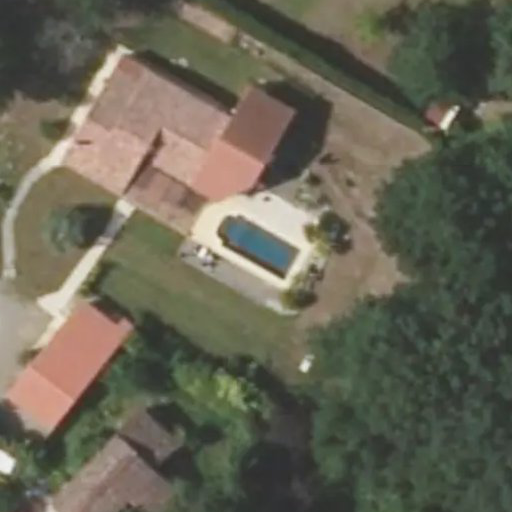pool: (209, 240, 302, 243)
